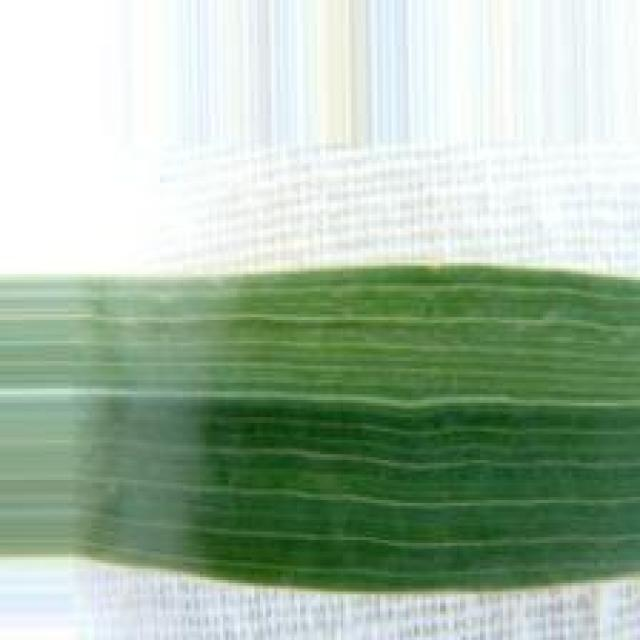Unhealthy: (0, 263, 640, 594)
